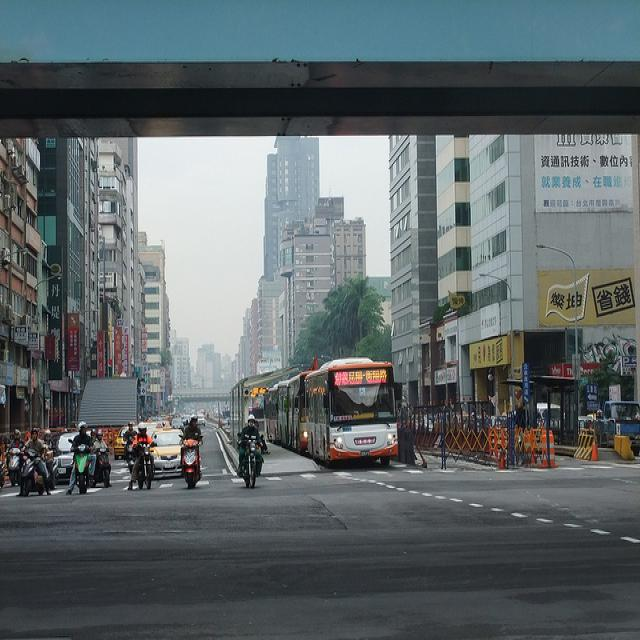motor: (178, 435, 204, 490), (89, 438, 114, 489), (70, 444, 95, 494), (20, 449, 46, 497), (3, 436, 25, 487), (238, 440, 261, 488), (137, 440, 158, 491), (123, 433, 133, 463)
